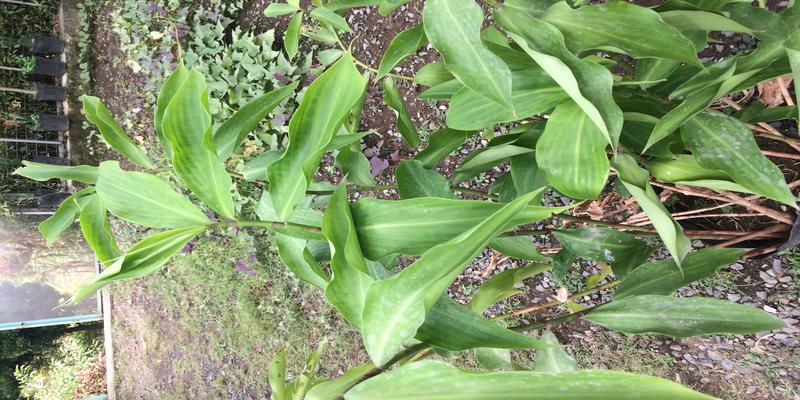Insulin: (402, 11, 777, 341)
